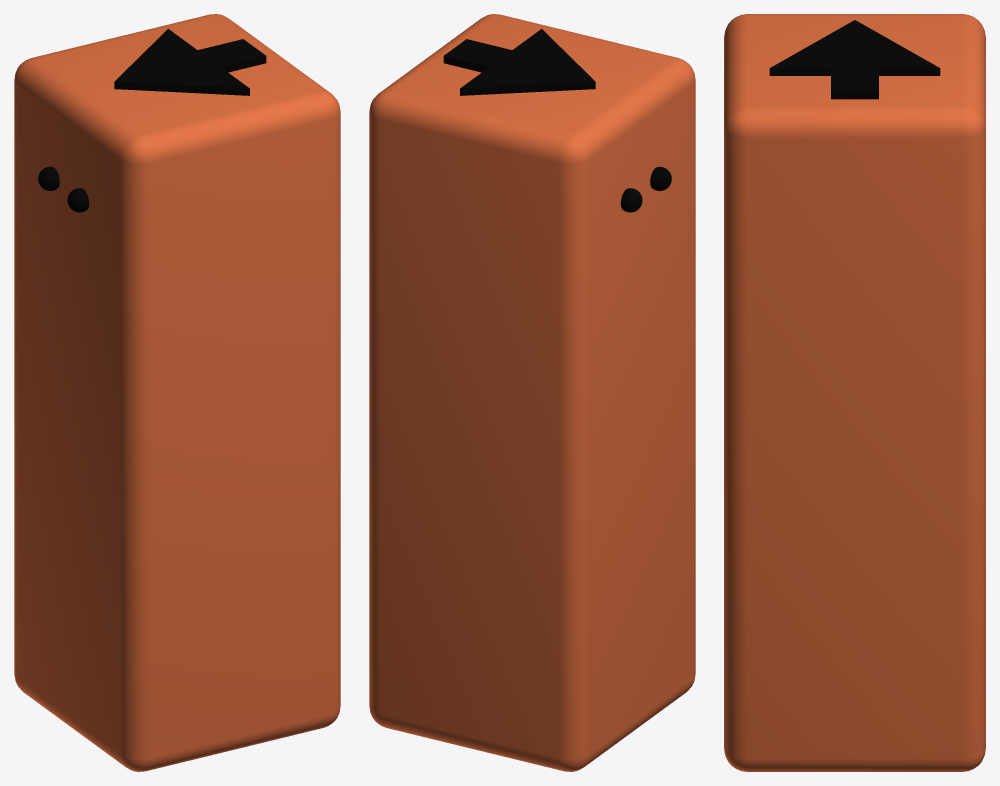
File: qbeige.obj
The picture shows the model from 3 angles, left to right: view 1: azimuth 30°, elevation 25°; view 2: azimuth 150°, elevation 25°; view 3: azimuth 270°, elevation 25°; orthographic projection. The views are drawn at different scales.
Parts seen in each view (by area): view 1: Cube.018_Cube.002; view 2: Cube.018_Cube.002; view 3: Cube.018_Cube.002.
Boxes of the visible parts, x1,y1,x2,y2 form: Cube.018_Cube.002: (14,14,340,771); Cube.018_Cube.002: (369,14,695,771); Cube.018_Cube.002: (724,14,985,771).
Bounding box in the file's own units: 0.1904 × 0.5061 × 0.1785.
